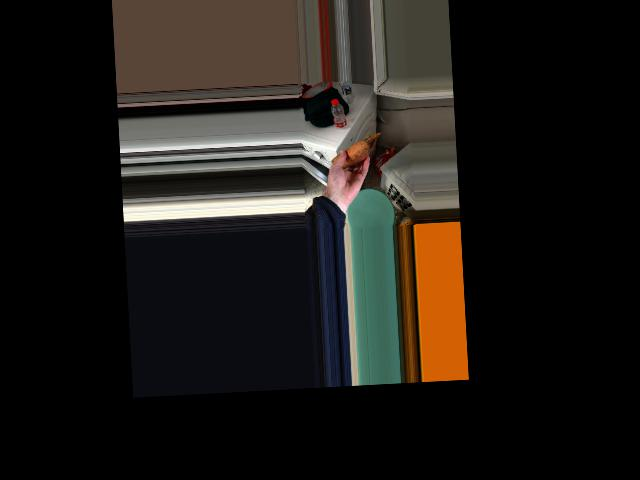sweet_potato: (335, 139, 369, 173)
